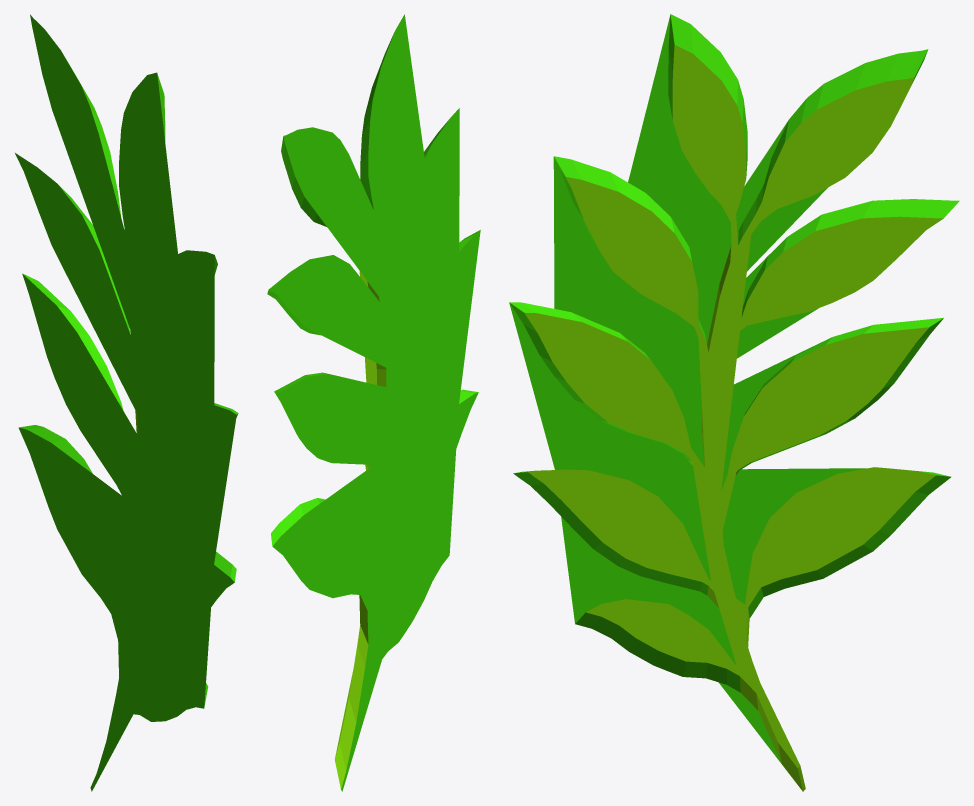
Rendered from planta.fbx.
3 views of the same model, side by side, from view 1: azimuth 30°, elevation 25°; view 2: azimuth 150°, elevation 25°; view 3: azimuth 270°, elevation 25° (orthographic). The views are drawn at different scales.
Parts seen in each view (by area): view 1: Plane; view 2: Plane; view 3: Plane.
Boxes of the visible parts, <box> form: Plane: <box>15,14,238,791</box>; Plane: <box>267,14,480,791</box>; Plane: <box>509,14,959,791</box>.
Bounding box in the file's own units: 4.5 × 356 × 187.
